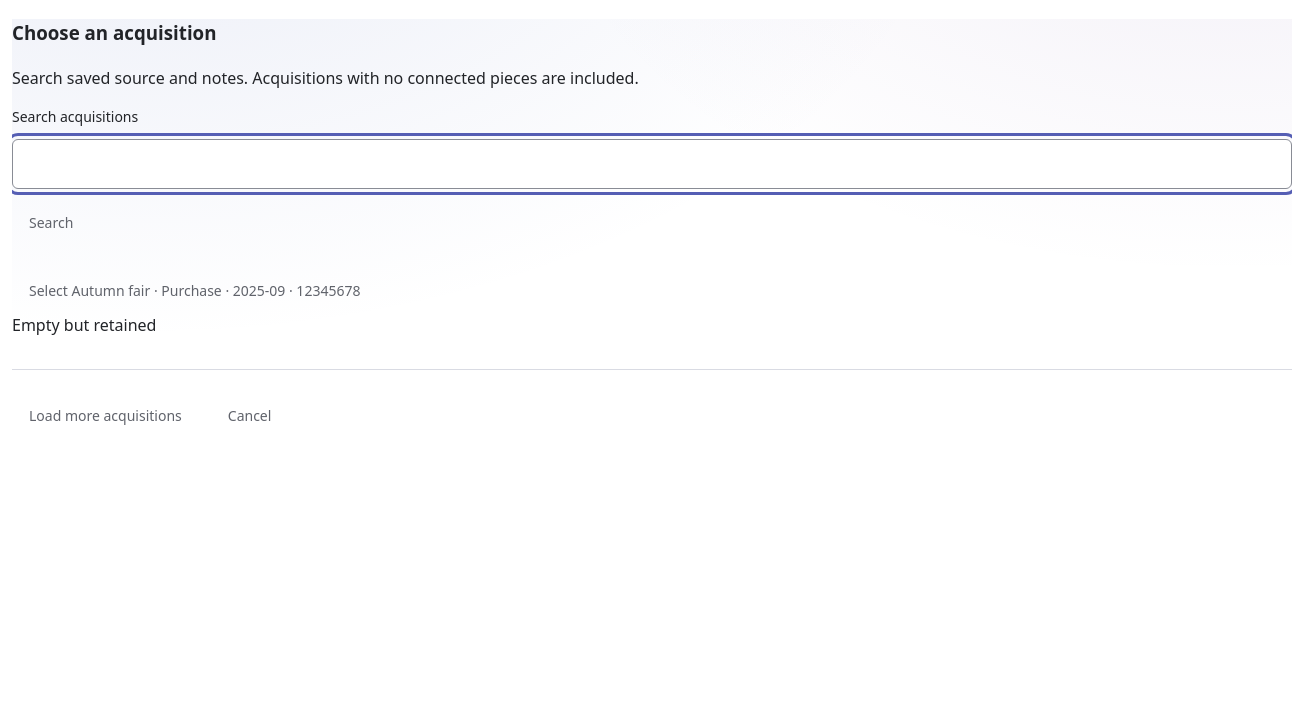
Test: retries a failed next page without losing earlier results
Click the button "Load more acquisitions" at [105, 416], box [12,394,199,438]
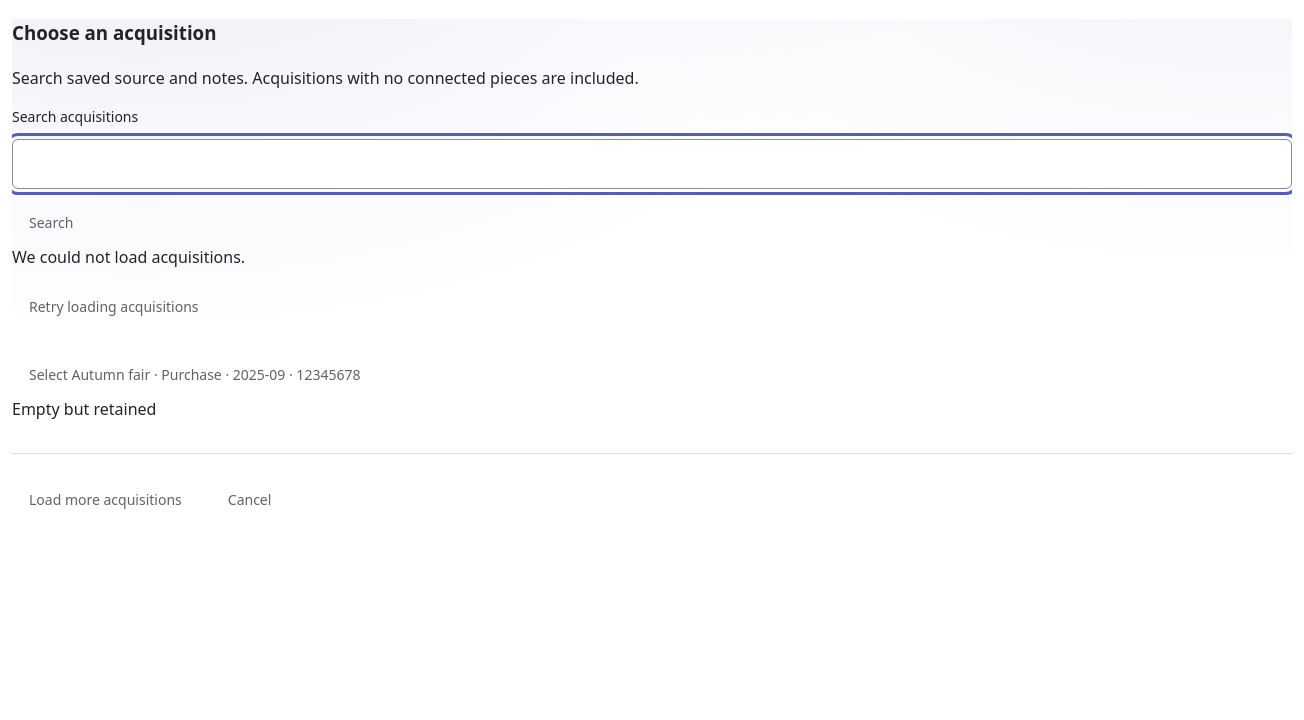
Expected: the button "Select Autumn fair · Purchase · 2025-09 · 12345678" is shown, [12,352,377,396]
Now the text "We could not load acquisitions." is shown, box [12,246,245,268]
// WHEN retrying THEN concatenate the requested page exactly once.
Click the button "Retry loading acquisitions" at [114, 306], box [12,284,216,328]
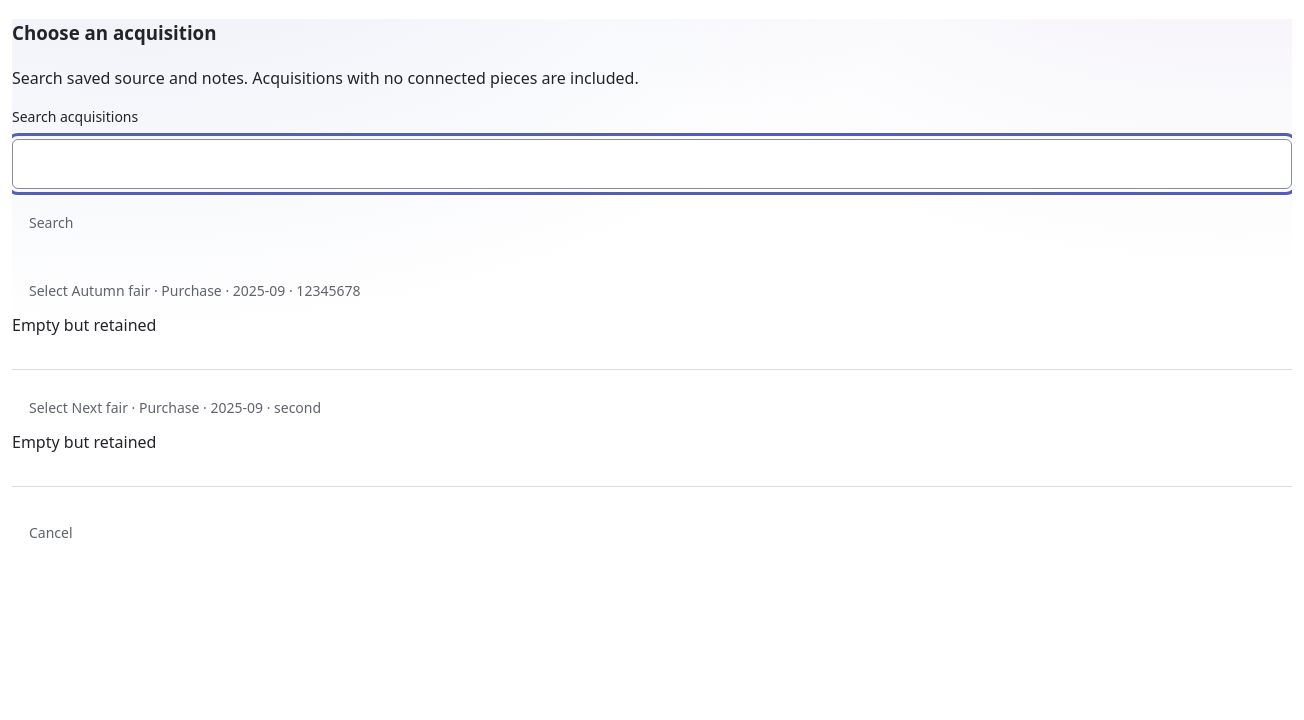
Now the button "Select Next fair · Purchase · 2025-09 · second" is shown, box [12,386,338,430]
Now the number of buttons "Select Autumn fair · Purchase · 2025-09 · 12345678" is 2, box [12,268,377,312]; [12,386,338,430]
